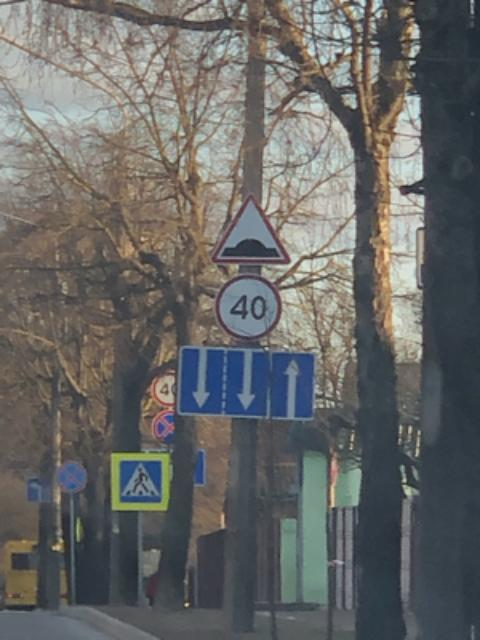crosswalk-sign: (110, 451, 172, 513)
